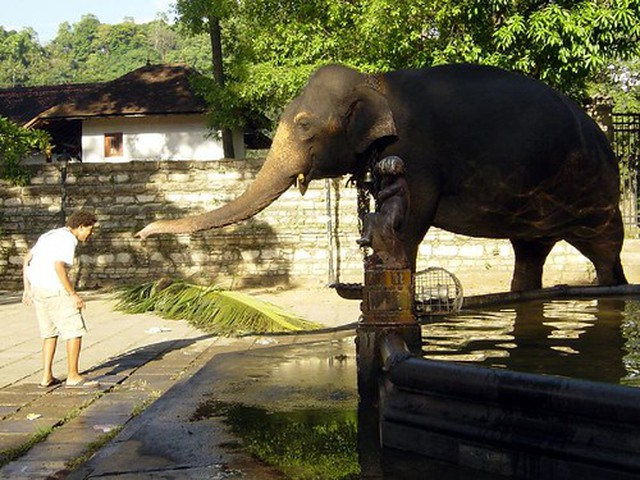Elephant: (147, 61, 632, 295)
Person: (21, 209, 100, 391)
